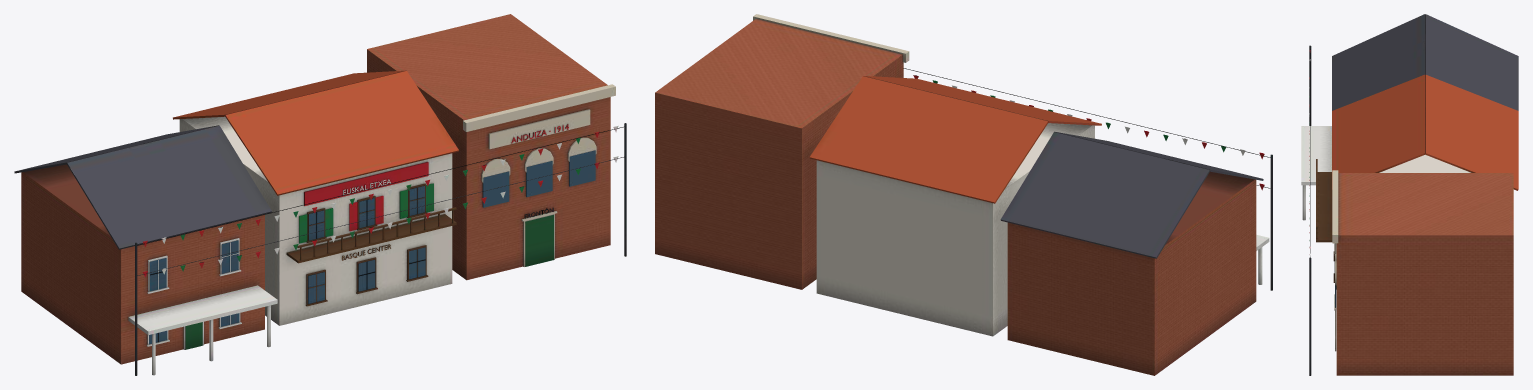
Rendered from casa_vasca.glb.
3 renders of one model, left to right at view 1: azimuth 30°, elevation 25°; view 2: azimuth 150°, elevation 25°; view 3: azimuth 270°, elevation 25°, orthographic. The views are drawn at different scales.
Visible parts, largest first — view 1: casa_vasca; view 2: casa_vasca; view 3: casa_vasca.
Boxes of the visible parts, x1=… form: casa_vasca: x1=14, y1=14, x2=626, y2=375; casa_vasca: x1=655, y1=14, x2=1272, y2=375; casa_vasca: x1=1301, y1=14, x2=1518, y2=375.
Bounding box in the file's own units: 34.5 × 11.66 × 14.73.
1 material, 1 textured.
